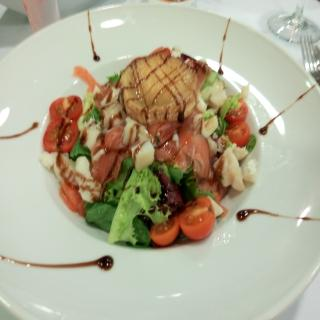tomato: (181, 202, 215, 242), (43, 116, 79, 153), (147, 211, 180, 245), (49, 94, 85, 120), (224, 93, 249, 123), (60, 184, 86, 211), (226, 120, 250, 146), (163, 183, 184, 211), (201, 62, 213, 84), (153, 45, 170, 59)
